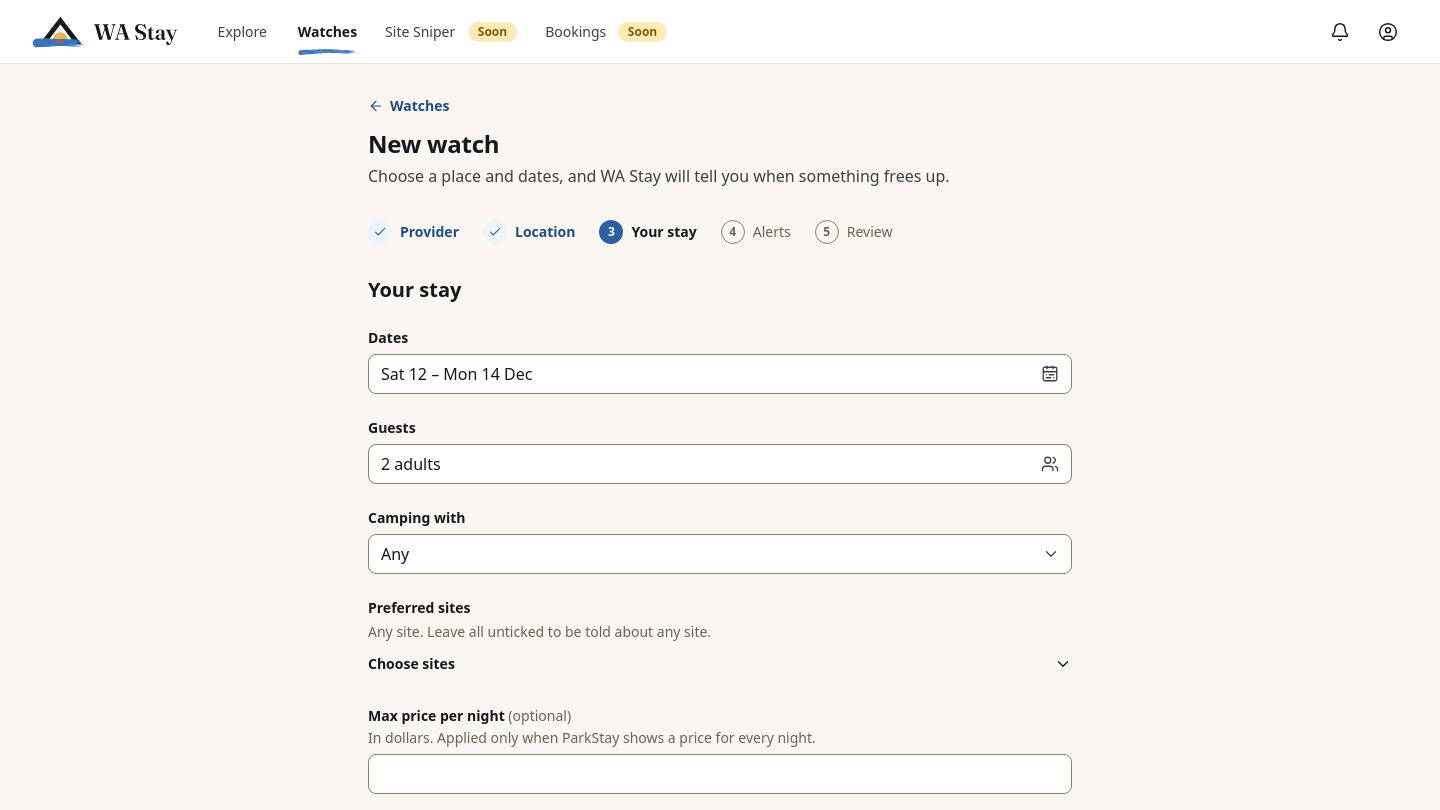
Test: NewWatchPage prefill (§12.10) › opens on Your stay with provider, location, dates and guests filled
The width and height of the screenshot is (1440, 810).
Expected: the heading named "Step 3 of 5: Your stay" is shown, [367,275,476,303]
Expected: the button named "Provider, done" is shown, [368,220,459,244]
Click the button named "Location, done" at (529,232), box [483,220,576,244]
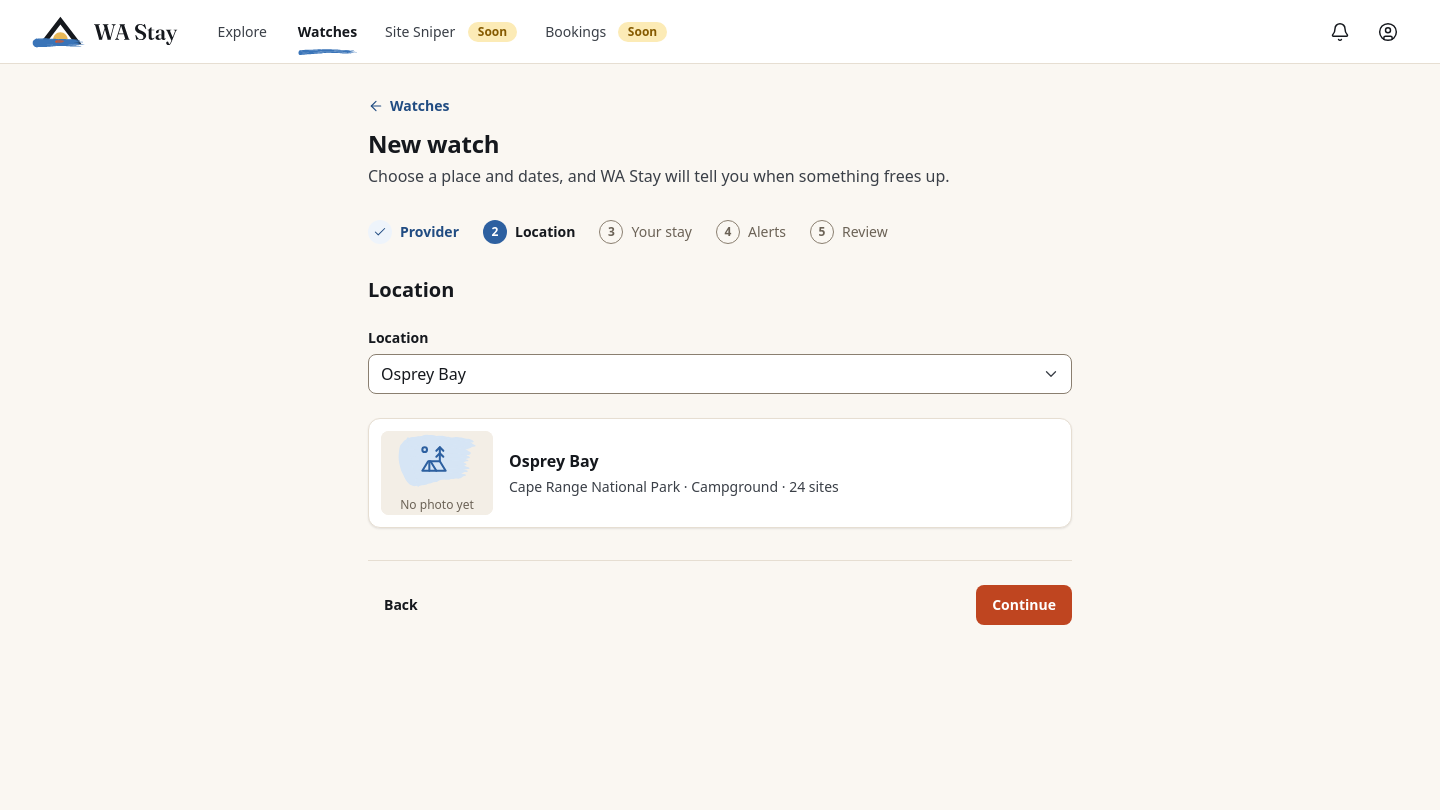
Result: the dropdown labelled "Location" holds "Osprey Bay" at [368,354,1072,394]
